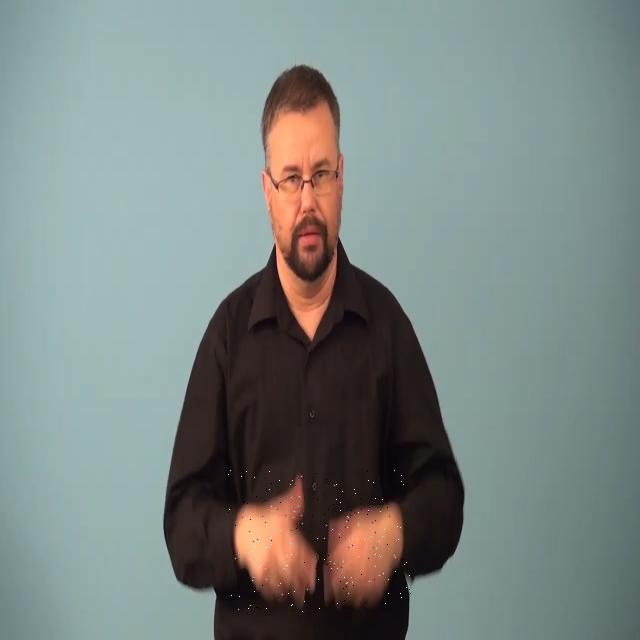juicy: (228, 470, 412, 614)
